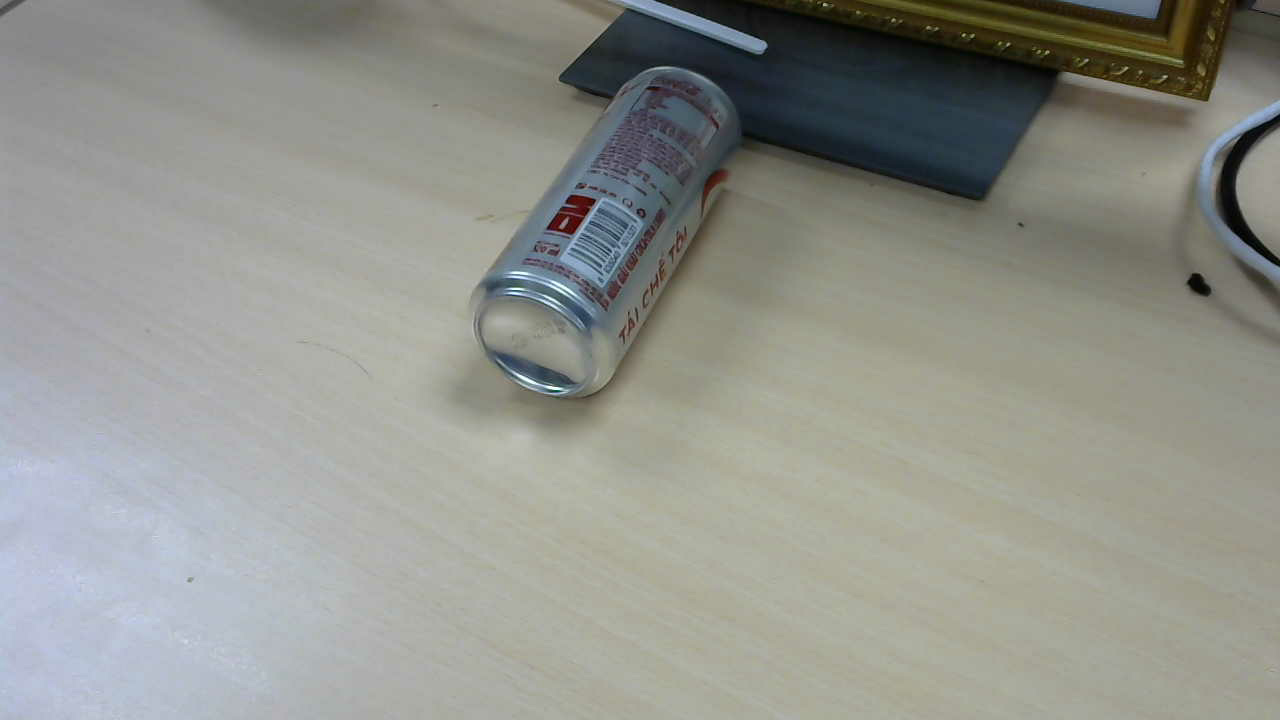Coca_Cola: (469, 68, 747, 406)
